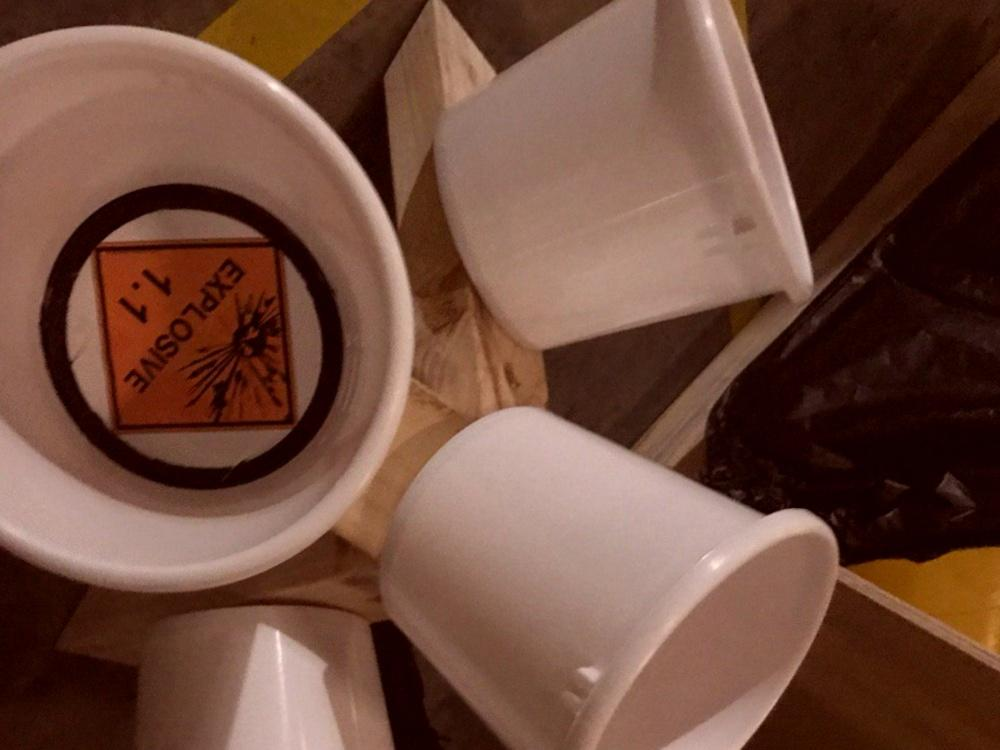explosive: (87, 241, 296, 433)
